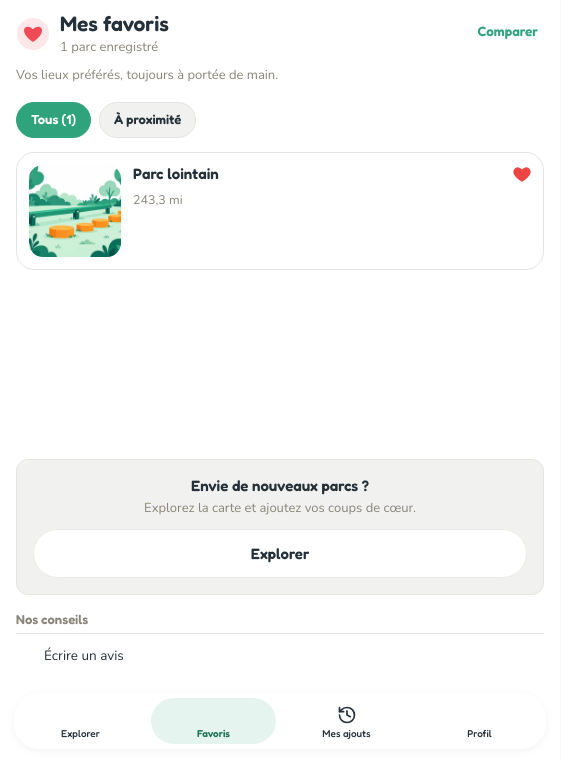
Test: Favorites — filters › resets to 'Tous' from the empty-filter state
Expected: the text "Parc lointain" is shown, [133,164,219,183]
Click the button "À proximité": {"x": 148, "y": 120} [99,102,196,138]
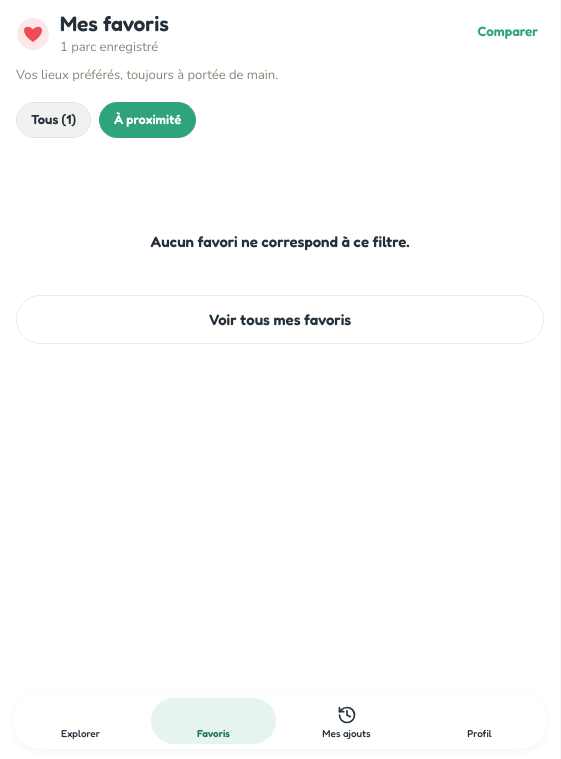
Expected: the text "Aucun favori ne correspond à ce filtre." is shown, [150,232,410,251]
Click the button "Voir tous mes favoris": {"x": 280, "y": 320} [16,295,544,344]
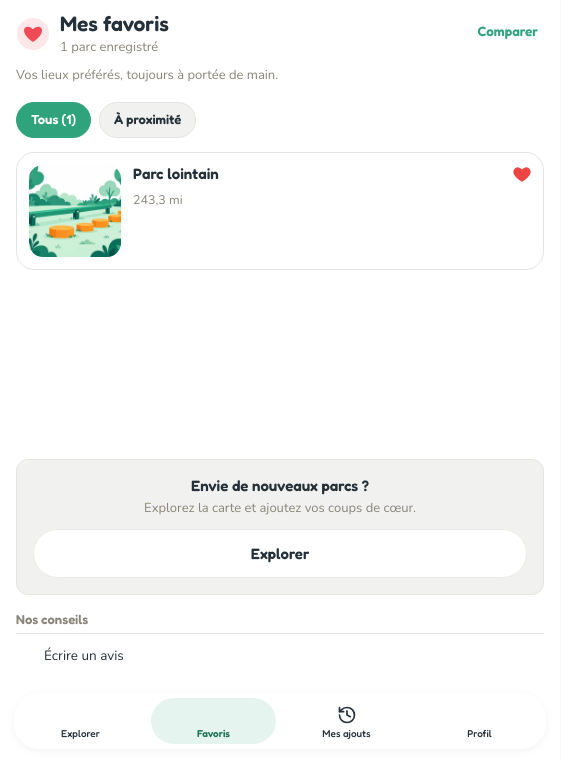
Expected: the text "Parc lointain" is shown, [133,164,219,183]
